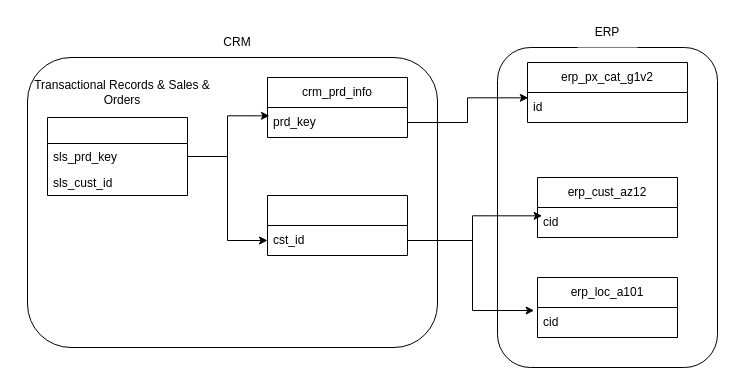
The diagram is 735 pixels wide and 385 high, and some of its shapes have lost their labels. The box of each missing label's shape, as (x1, y1, x2, y2) in pixels:
crm_cust_info: (266, 194, 408, 256)
crm_sales_details: (46, 116, 188, 196)
